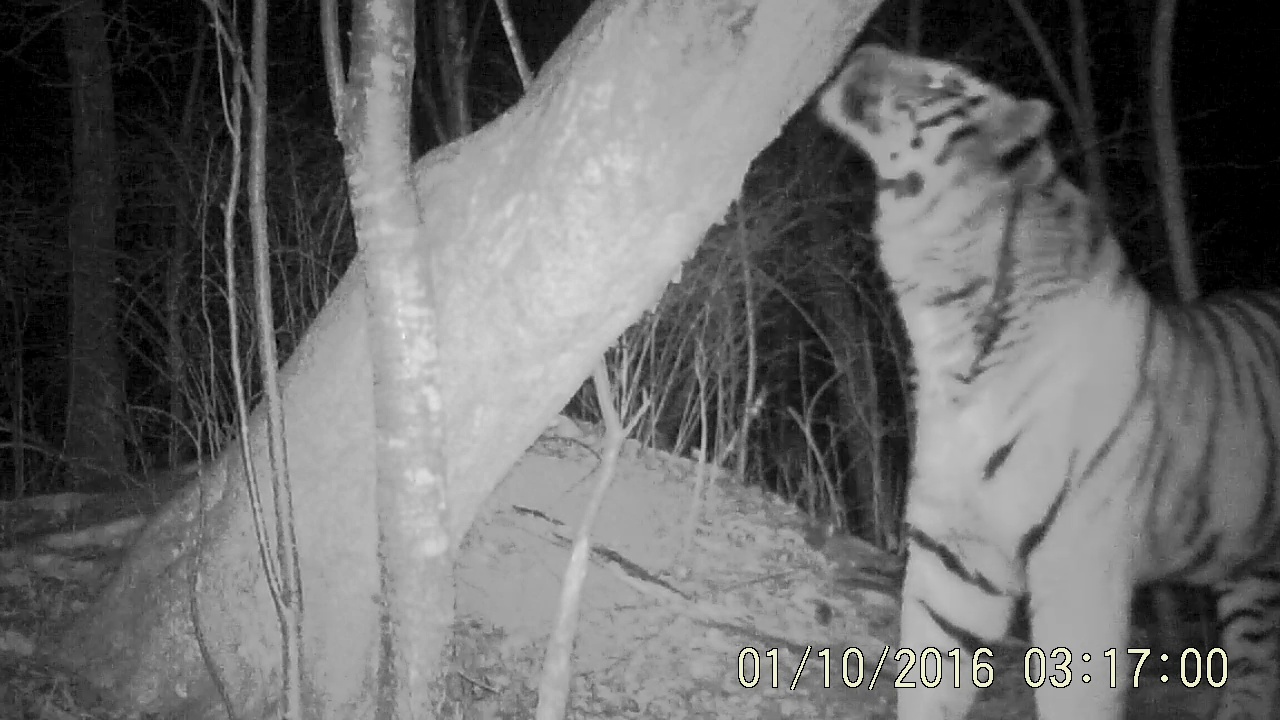Tiger: (800, 7, 1280, 637)
